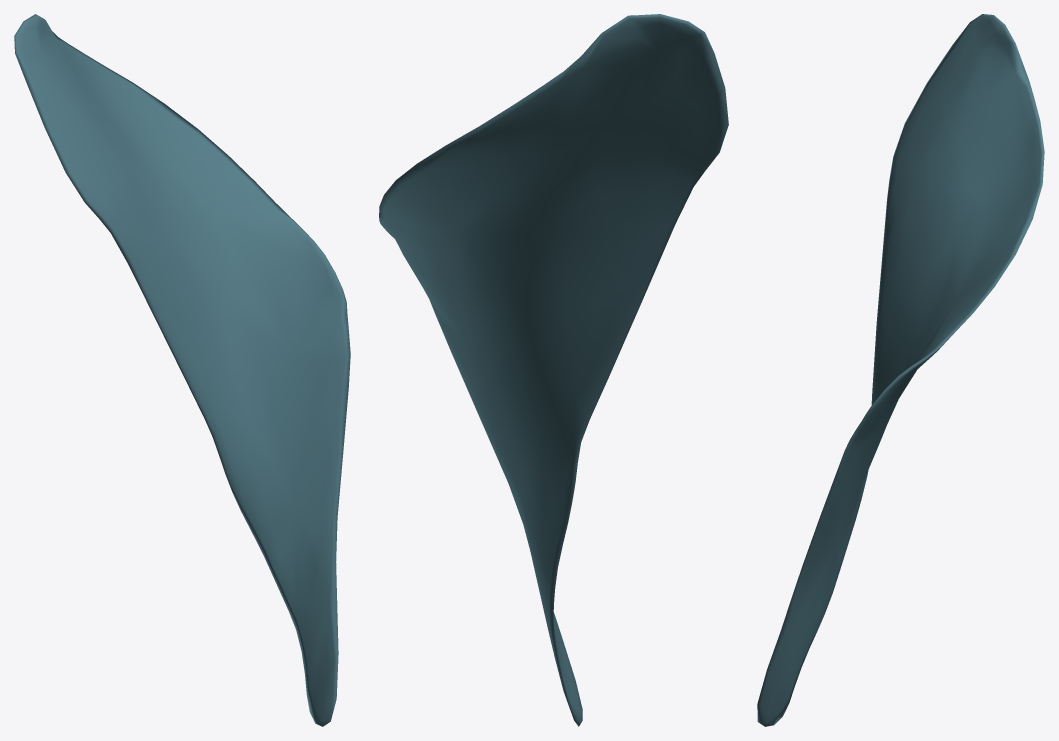
The model's file is Popliteus_above_oblique_line_of_tibia.r_Generated_Mesh_From_X3D.glb.
The picture shows the model from 3 angles, left to right: view 1: azimuth 30°, elevation 25°; view 2: azimuth 150°, elevation 25°; view 3: azimuth 270°, elevation 25°; orthographic projection. The views are drawn at different scales.
Visible parts, largest first — view 1: Popliteus_above_oblique_line_of_tibia.r_Generated_Mesh_From_; view 2: Popliteus_above_oblique_line_of_tibia.r_Generated_Mesh_From_; view 3: Popliteus_above_oblique_line_of_tibia.r_Generated_Mesh_From_.
Part boxes in pixels (bbox=[...]): Popliteus_above_oblique_line_of_tibia.r_Generated_Mesh_From_: bbox=[14, 14, 350, 726]; Popliteus_above_oblique_line_of_tibia.r_Generated_Mesh_From_: bbox=[379, 14, 728, 726]; Popliteus_above_oblique_line_of_tibia.r_Generated_Mesh_From_: bbox=[757, 14, 1044, 726].
Size of the model in its own units: 0.0324 by 0.0738 by 0.0305.
